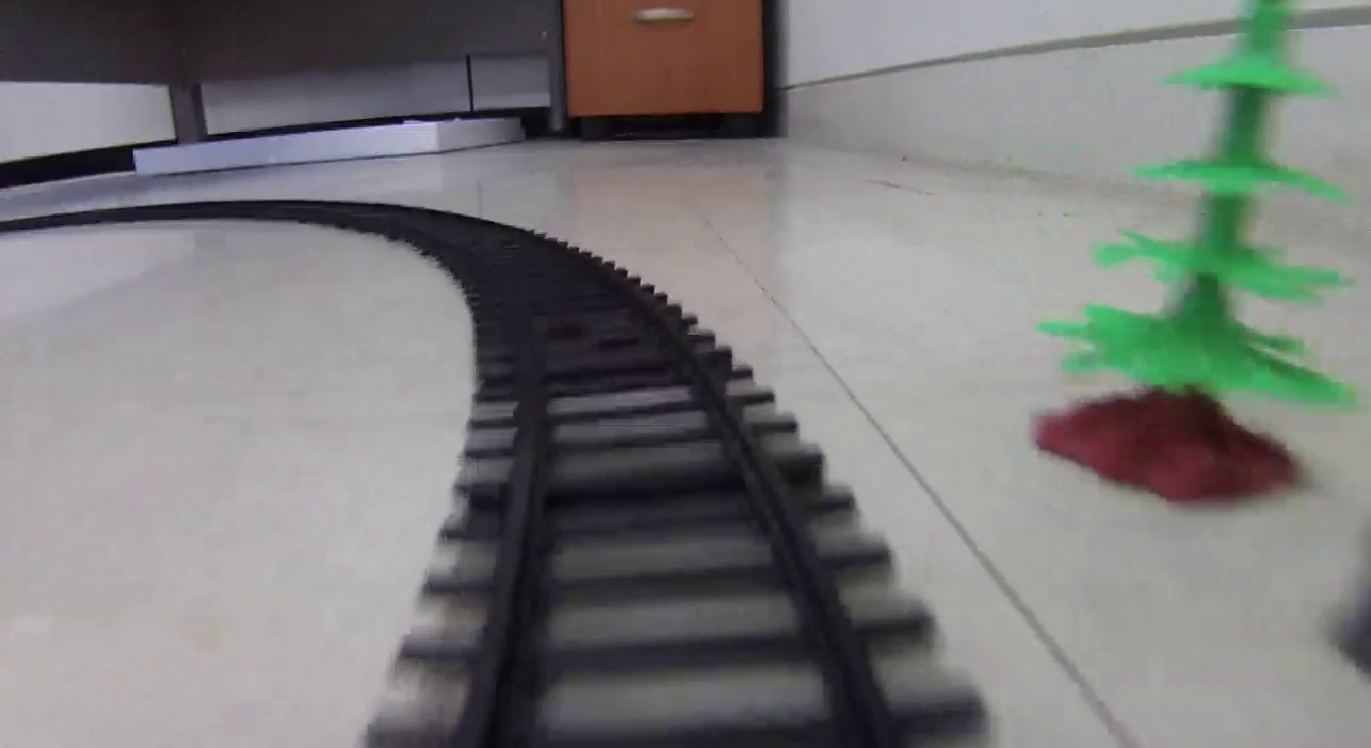tree: (1028, 6, 1365, 510)
